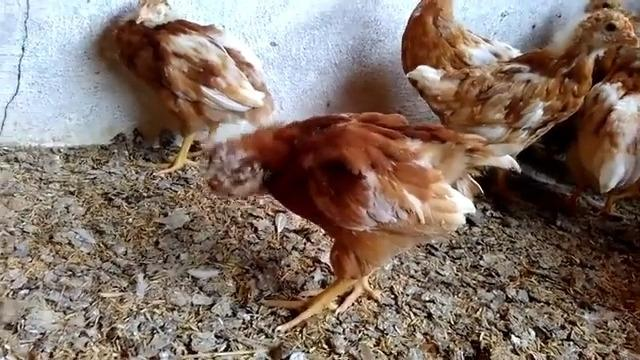AbNormal: (202, 110, 484, 335)
